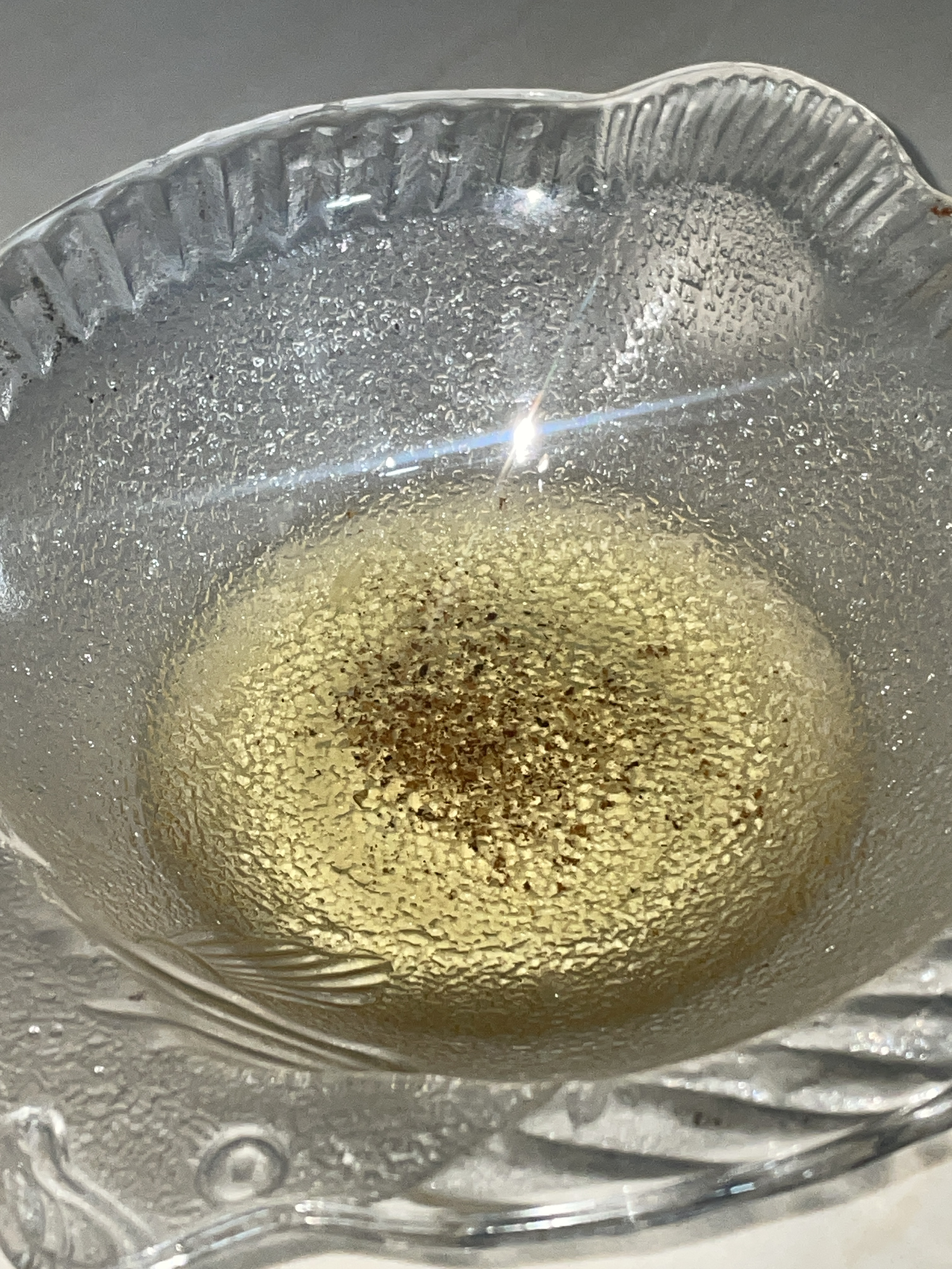reusable: (154, 500, 853, 1035)
